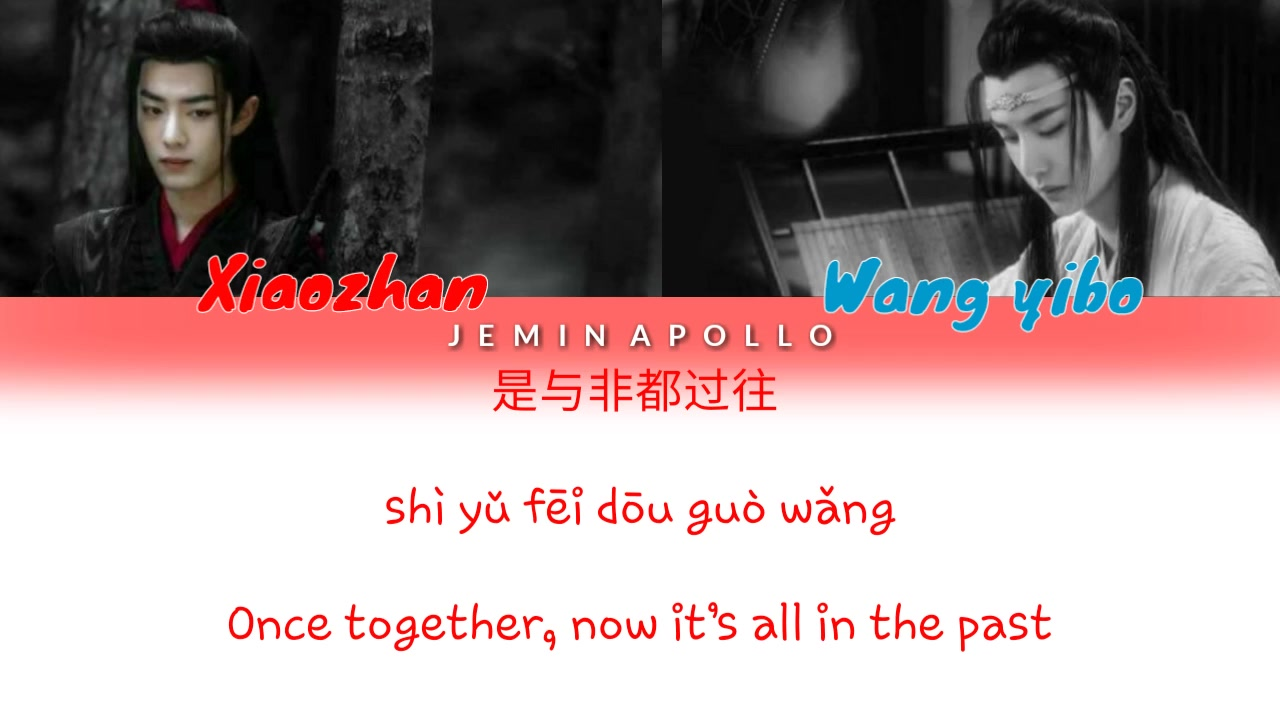text-label: (225, 599, 1058, 653)
